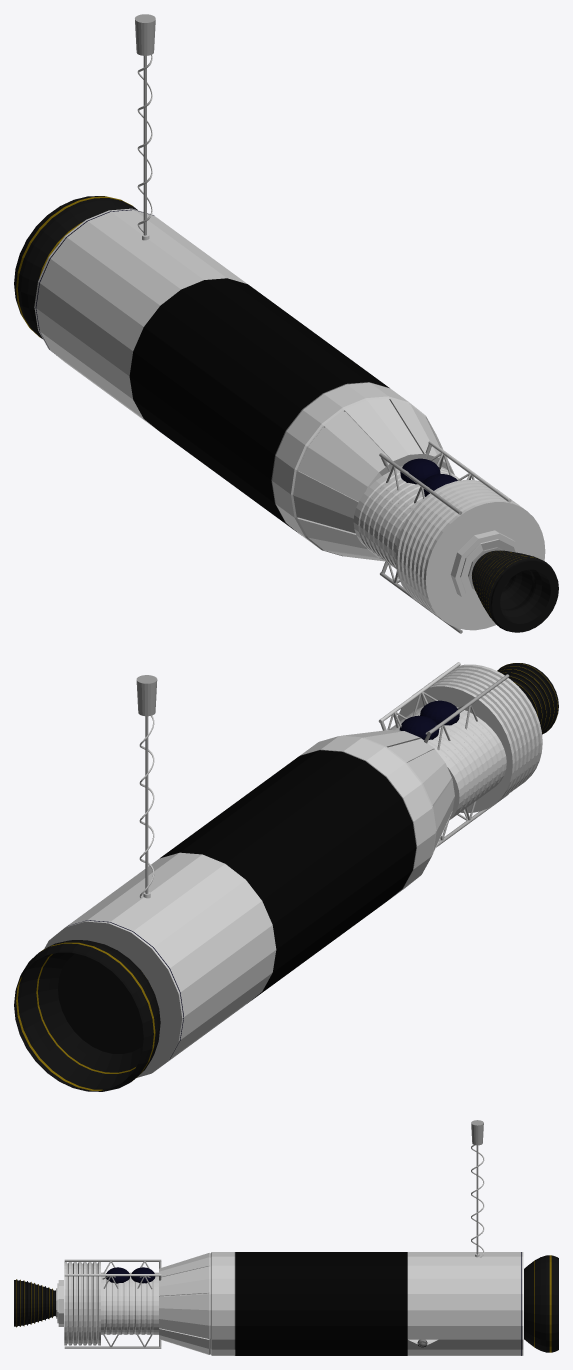
File: agena.obj
3 renders of one model, top to bottom at view 1: azimuth 30°, elevation 25°; view 2: azimuth 150°, elevation 25°; view 3: azimuth 270°, elevation 25°, orthographic. The views are drawn at different scales.
Parts seen in each view (by area): view 1: polySurfac, pCylinder3, pPipe1, pCylinder1, pCylinder4, pCylinder5, pCylinder2; view 2: polySurfac, pCylinder1, pCylinder3, pCylinder4, pPipe1, pCylinder2, group8_pSp, pSphere1_g; view 3: polySurfac, pCylinder1, pCylinder4, pCylinder3, pPipe1, pCylinder2, pCylinder5.
Part boxes in pixels (x1,y1,x2,y2): polySurfac: (34, 208, 454, 561); pCylinder3: (395, 480, 545, 630); pPipe1: (472, 550, 558, 632); pCylinder1: (14, 196, 137, 338); pCylinder4: (353, 465, 459, 568); pCylinder5: (450, 530, 519, 605); pCylinder2: (135, 14, 155, 235); polySurfac: (44, 730, 454, 1077); pCylinder1: (14, 940, 160, 1091); pCylinder3: (397, 664, 542, 812); pCylinder4: (389, 706, 506, 821); pPipe1: (497, 663, 558, 734); pCylinder2: (136, 675, 157, 893); group8_pSp: (420, 700, 459, 725); pSphere1_g: (399, 715, 439, 739); polySurfac: (159, 1252, 523, 1355); pCylinder1: (524, 1255, 558, 1352); pCylinder4: (101, 1272, 158, 1334); pCylinder3: (64, 1262, 100, 1345); pPipe1: (14, 1279, 55, 1327); pCylinder2: (471, 1120, 483, 1254); pCylinder5: (56, 1280, 63, 1326).
Size of the model in its own units: 0.5233 by 1.26 by 2.73.
